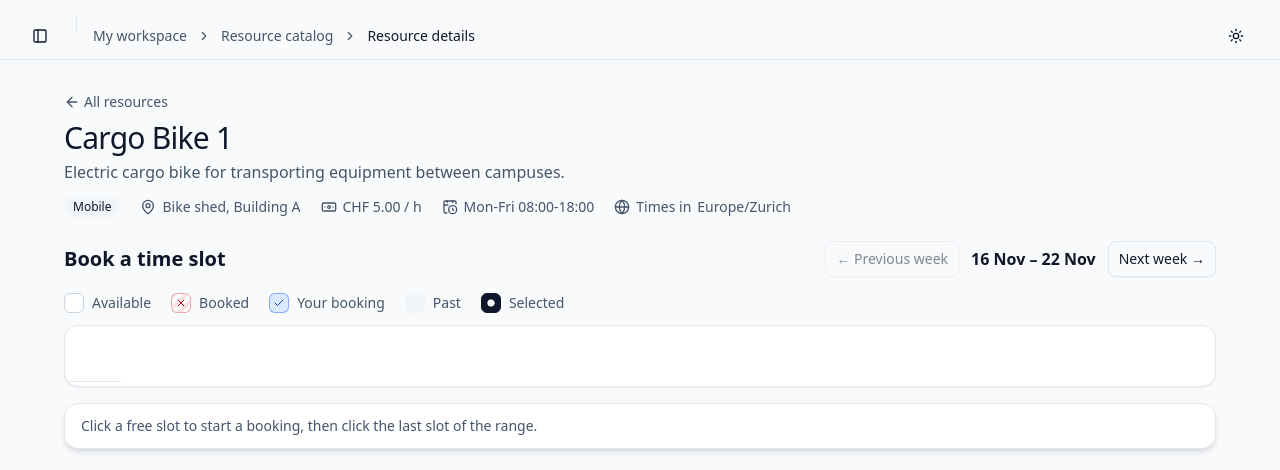
Test: ResourceDetailsPage › stops at the last week that starts within the 30-day horizon
Click the button "Next week →". click: [1162, 259]
box: 1108,241 -> 1216,277
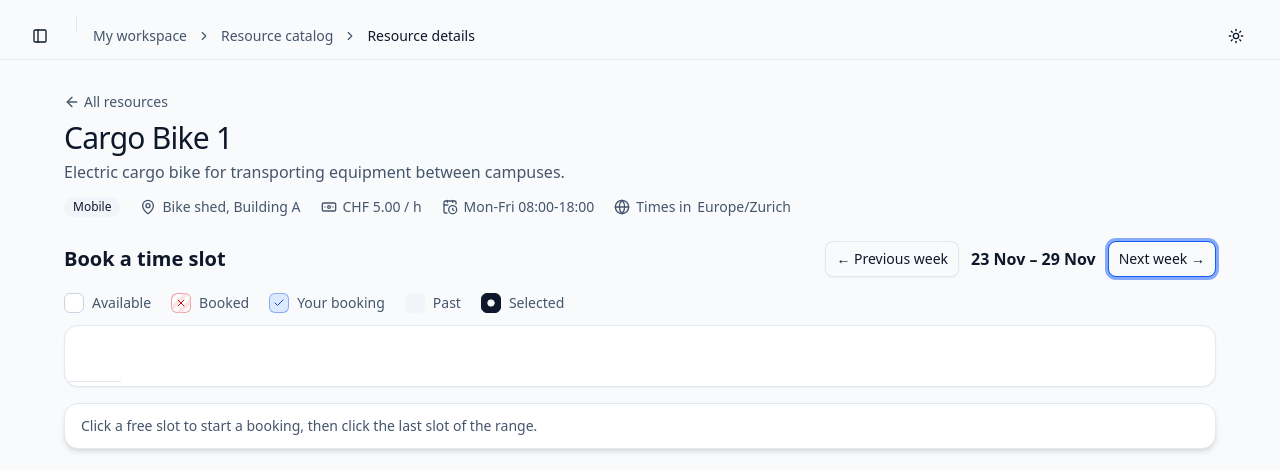
Click the button "Next week →". click: [1162, 259]
box: 1108,241 -> 1216,277
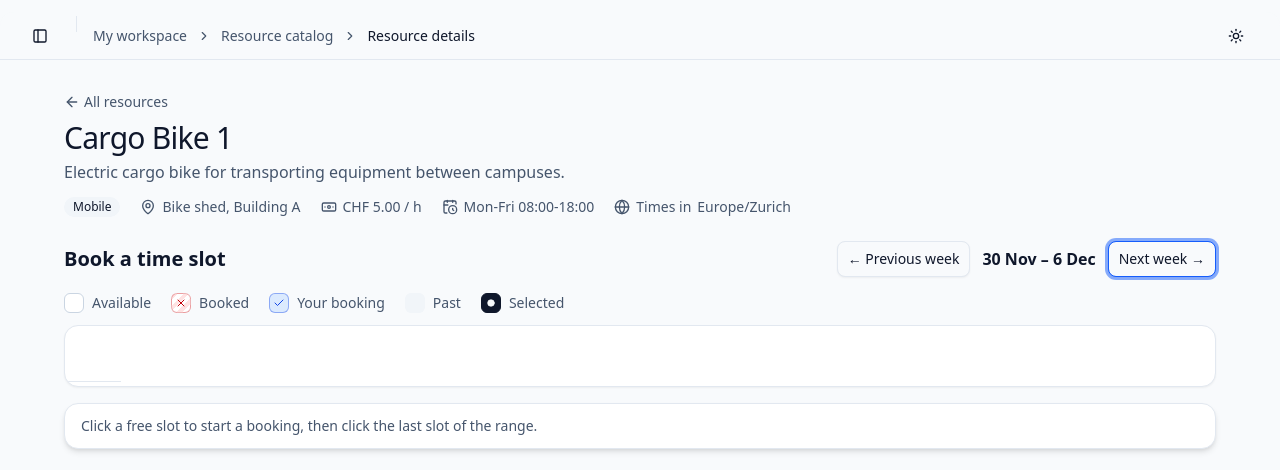
Click the button "Next week →". click: [1162, 259]
box: 1108,241 -> 1216,277
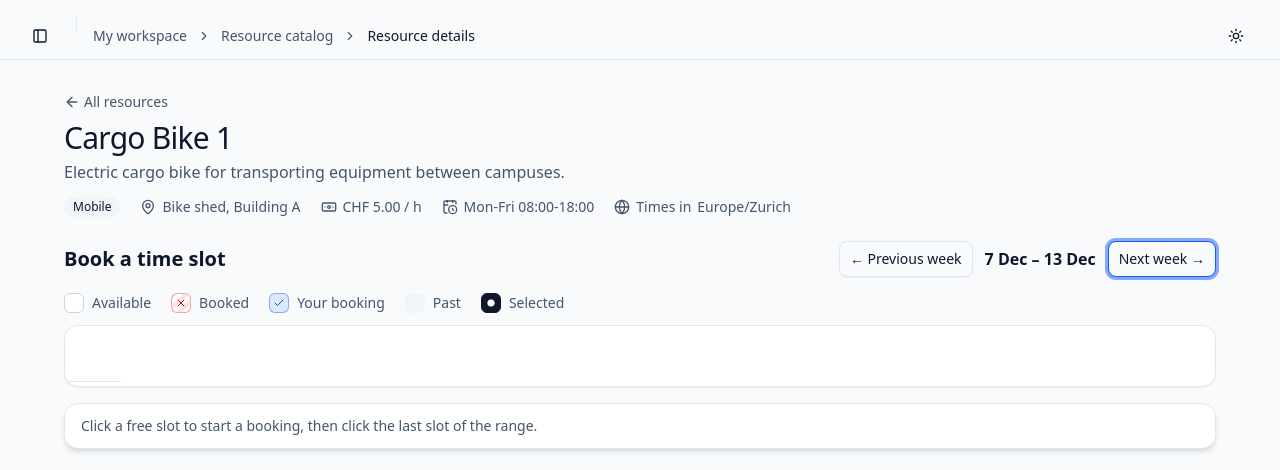
Click the button "Next week →". click: [1162, 259]
box: 1108,241 -> 1216,277
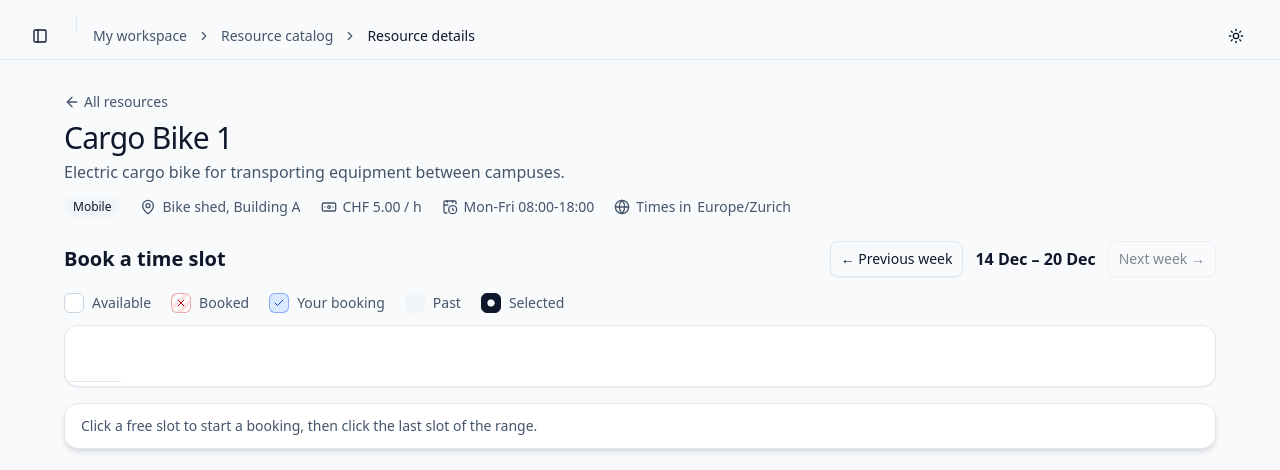
expect the button "Next week →" is disabled: met, box 1108,241 -> 1216,277
